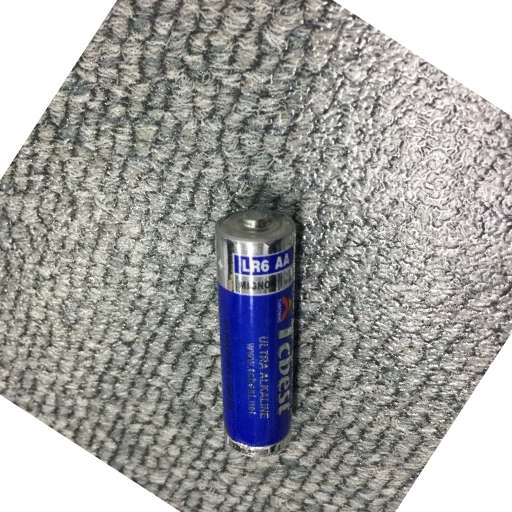Battery_0: (197, 201, 319, 468)
